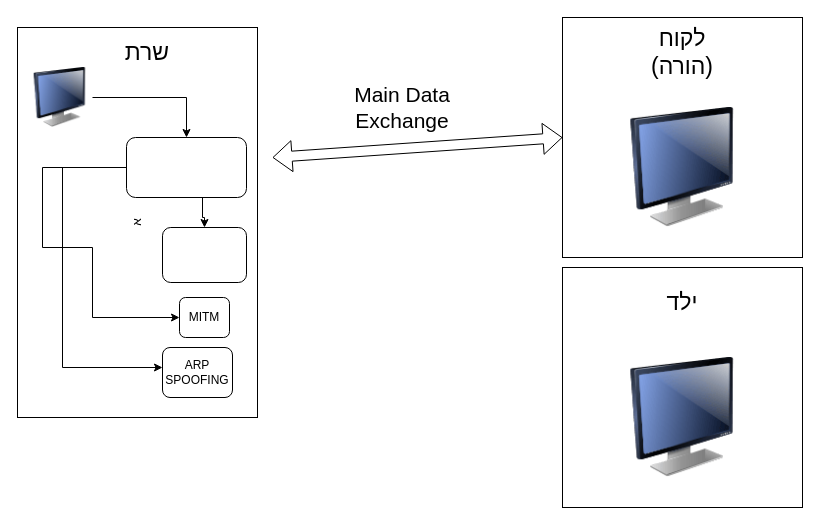
Some shapes in this 820 by 525 pixel diagram are drawn without their labels. Here are the shapes that lost their labels. From the top down, the box of each, then its label:
(126, 136, 246, 198): MAIN PROCESS
(162, 226, 246, 282): HTTP SERVER
